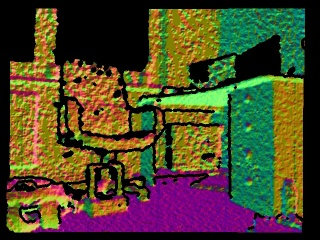station: (83, 161, 128, 217)
